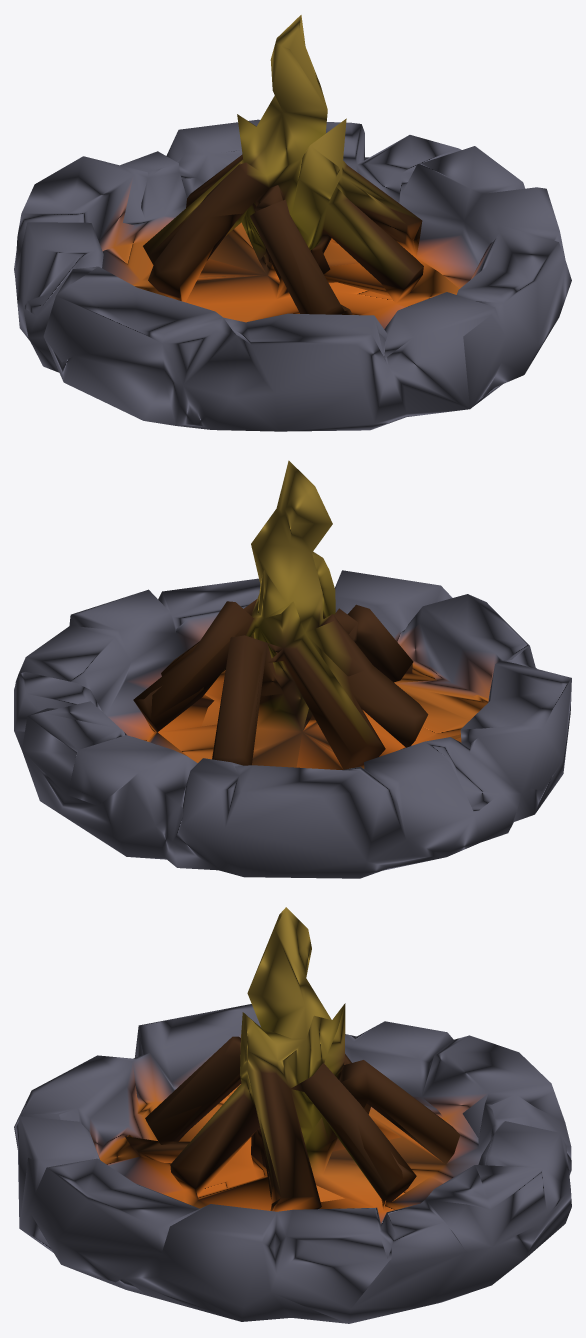
File: gen3d-beach-bonfire-lod1.glb
The picture shows the model from 3 angles, top to bottom: view 1: azimuth 30°, elevation 25°; view 2: azimuth 150°, elevation 25°; view 3: azimuth 270°, elevation 25°; orthographic projection.
Visible parts, largest first — view 1: part_0; view 2: part_0; view 3: part_0.
Part boxes in pixels (x1,y1,x2,y2): part_0: (14, 15, 571, 431); part_0: (14, 460, 571, 878); part_0: (14, 907, 571, 1323).
Size of the model in its own units: 1.63 by 0.9849 by 1.61.
